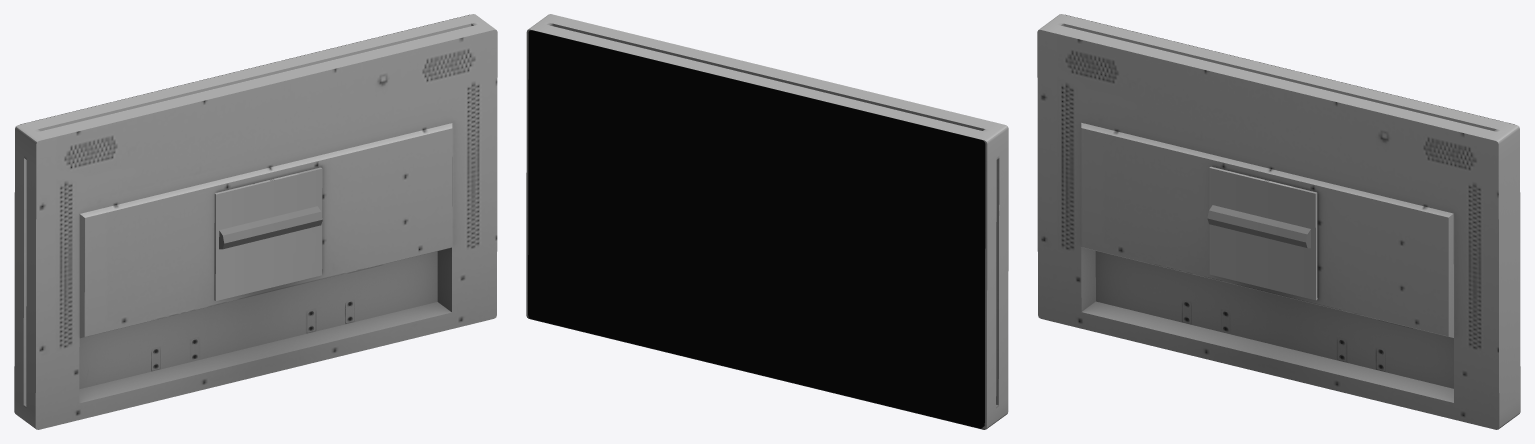
File: UTC_520_face.fbx
3 views of the same model, side by side, from view 1: azimuth 30°, elevation 25°; view 2: azimuth 150°, elevation 25°; view 3: azimuth 330°, elevation 25° (orthographic).
Parts seen in each view (by area): view 1: A, C; view 2: B, A; view 3: A, C.
Part boxes in pixels (x1=…): A: x1=14, y1=14, x2=497, y2=429; C: x1=214, y1=167, x2=322, y2=300; B: x1=528, y1=30, x2=985, y2=428; A: x1=526, y1=14, x2=1008, y2=429; A: x1=1037, y1=14, x2=1520, y2=429; C: x1=1207, y1=166, x2=1317, y2=300.
Bounding box in the file's own units: 51.96 × 31.17 × 6.08.
1 material, 1 textured.
